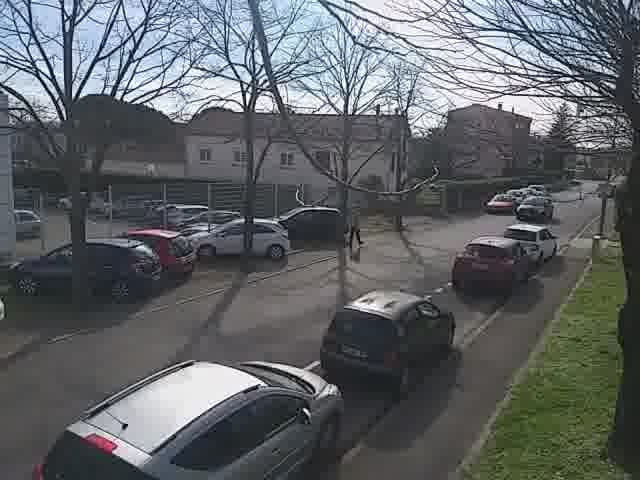persona: (345, 197, 366, 251)
